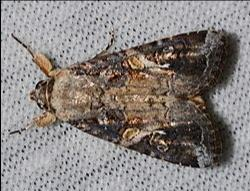army worm adult: (11, 29, 231, 169)
